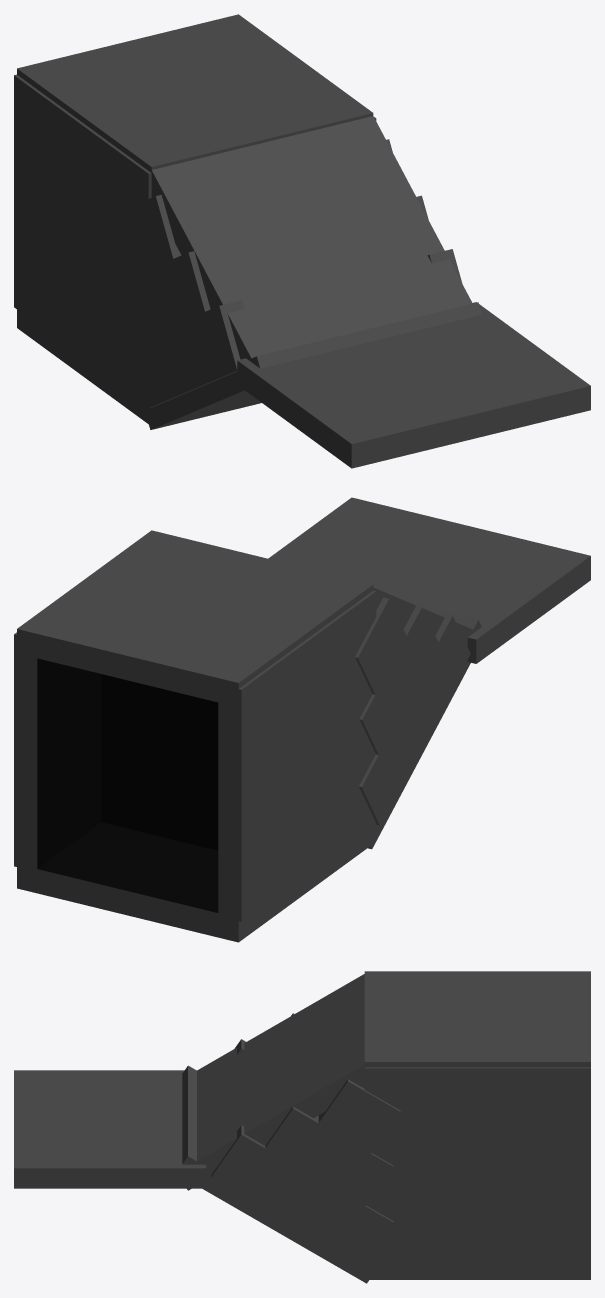
Rendered from seamonster.glb.
3 views of the same model, one above another, from view 1: azimuth 30°, elevation 25°; view 2: azimuth 150°, elevation 25°; view 3: azimuth 270°, elevation 25° (orthographic). The views are drawn at different scales.
Visible parts, largest first — view 1: group, group2; view 2: group, group2; view 3: group, group2.
Boxes of the visible parts, x1,y1,x2,y2 form: group: (14,14,481,429); group2: (237,302,590,468); group: (14,530,481,942); group2: (268,497,590,663); group: (182,971,590,1283); group2: (14,1070,206,1188).
Size of the model in its own units: 5.12 by 5.41 by 12.75.
1 material, 1 textured.
